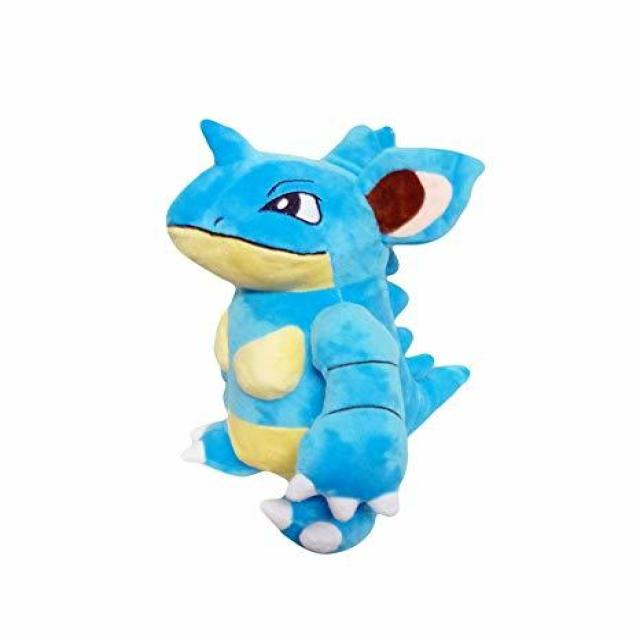Nidoqueen: (165, 119, 485, 553)
